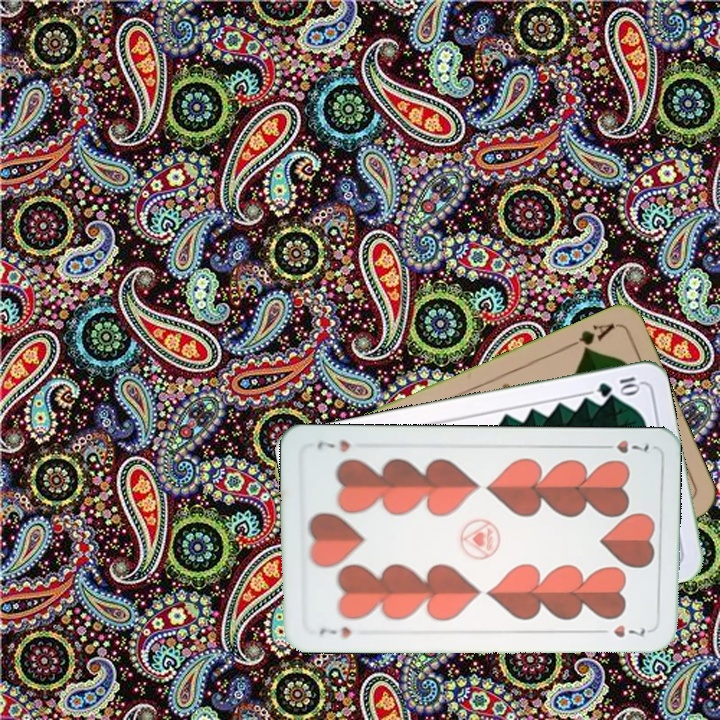G10: (593, 372, 644, 400)
GA: (562, 319, 618, 356)
H7: (595, 435, 652, 456), (316, 622, 354, 640)
